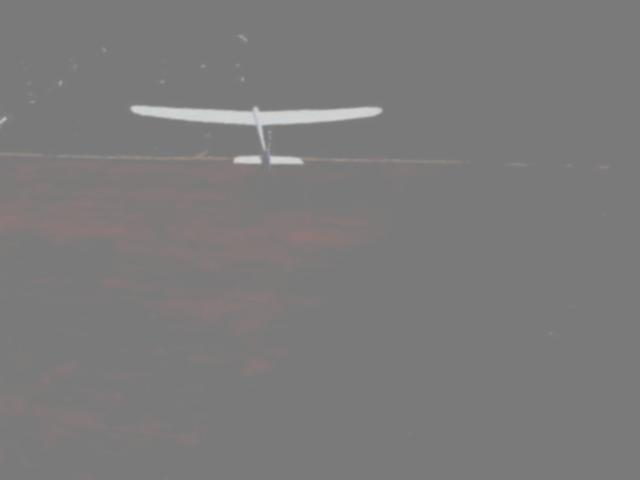iha: (123, 45, 396, 198)
